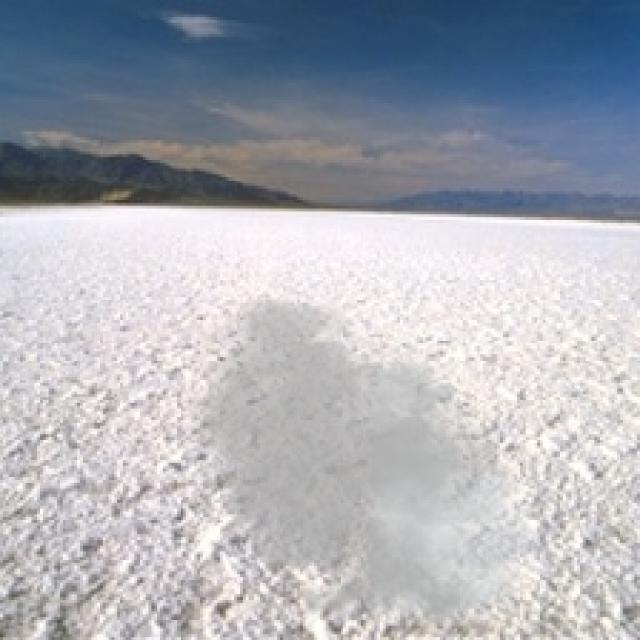Smoke: (175, 292, 554, 637)
